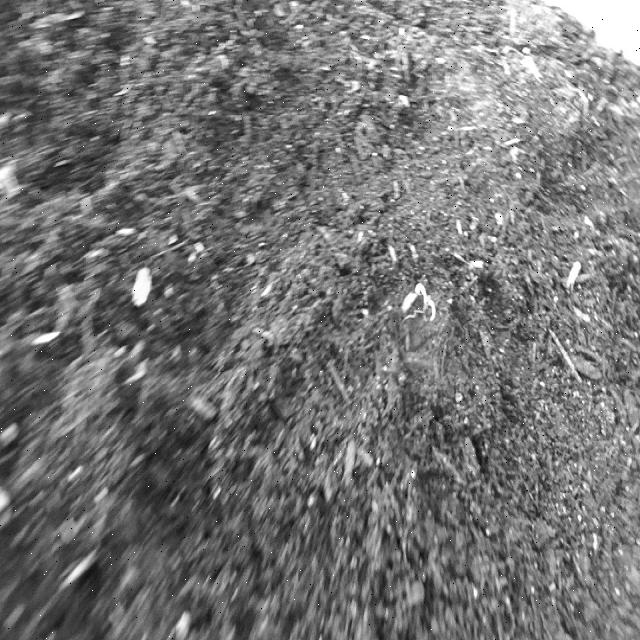Unhealthy: (395, 261, 443, 351)
